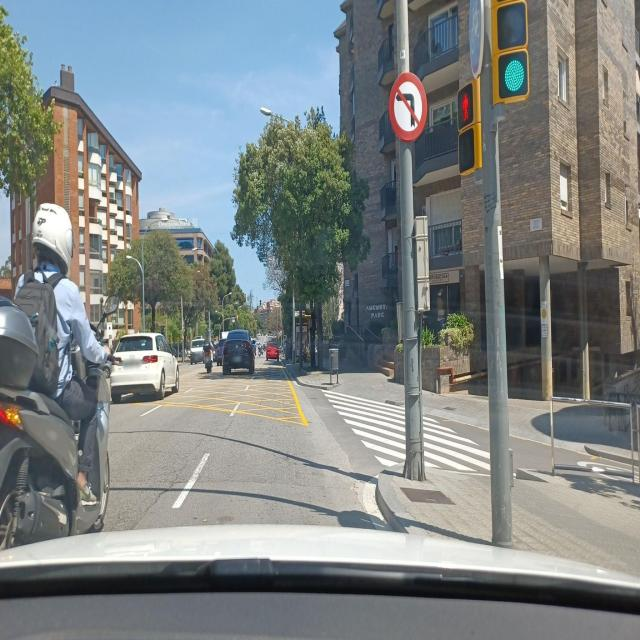bike: (0, 288, 114, 556)
car: (110, 330, 179, 401), (222, 328, 255, 376), (188, 338, 207, 364), (213, 339, 226, 365), (266, 338, 280, 362)
